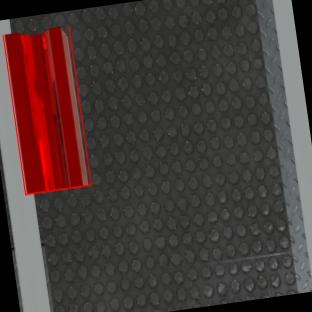objects: (2, 20, 91, 198)
